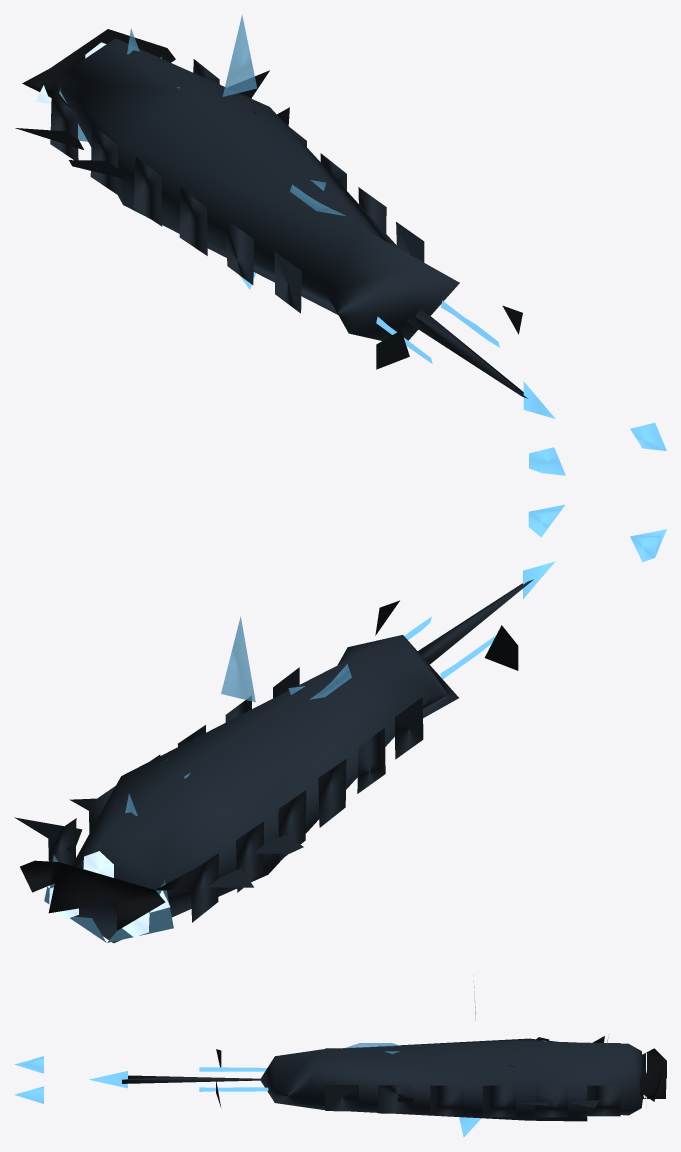
The model's file is kamerton-rezonanci-hawk-5-lod2.glb.
3 renders of one model, top to bottom at view 1: azimuth 30°, elevation 25°; view 2: azimuth 150°, elevation 25°; view 3: azimuth 270°, elevation 25°, orthographic. The views are drawn at different scales.
Size of the model in its own units: 8.4 by 8.75 by 31.22.
